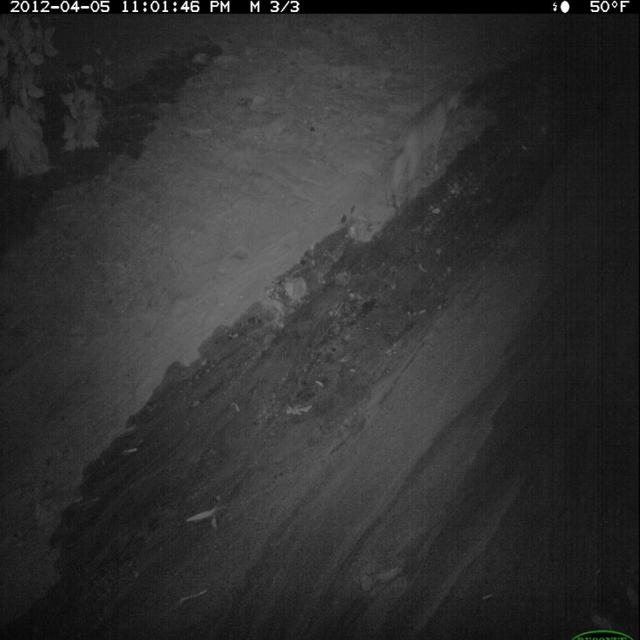bobcat: (389, 78, 468, 202)
